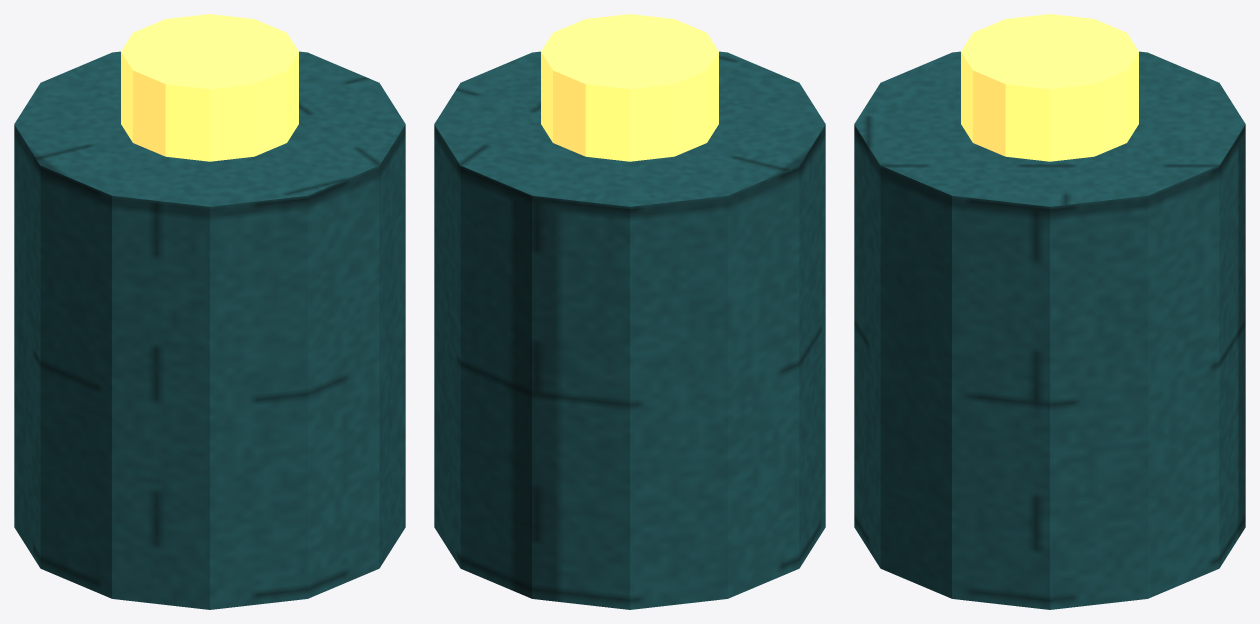
File: coolant_unit.glb
3 views of the same model, side by side, from view 1: azimuth 30°, elevation 25°; view 2: azimuth 150°, elevation 25°; view 3: azimuth 270°, elevation 25° (orthographic).
Parts seen in each view (by area): view 1: coolant_unit_paint.017, coolant_unit_orange.017; view 2: coolant_unit_paint.017, coolant_unit_orange.017; view 3: coolant_unit_paint.017, coolant_unit_orange.017.
Boxes of the visible parts, left/top/right/bottom form: coolant_unit_paint.017: left=14, top=51, right=405, bottom=609; coolant_unit_orange.017: left=121, top=14, right=298, bottom=161; coolant_unit_paint.017: left=434, top=51, right=825, bottom=609; coolant_unit_orange.017: left=541, top=14, right=718, bottom=161; coolant_unit_paint.017: left=854, top=51, right=1245, bottom=609; coolant_unit_orange.017: left=961, top=14, right=1138, bottom=161.
Size of the model in its own units: 0.44 by 0.59 by 0.44.
2 materials, 1 textured.
